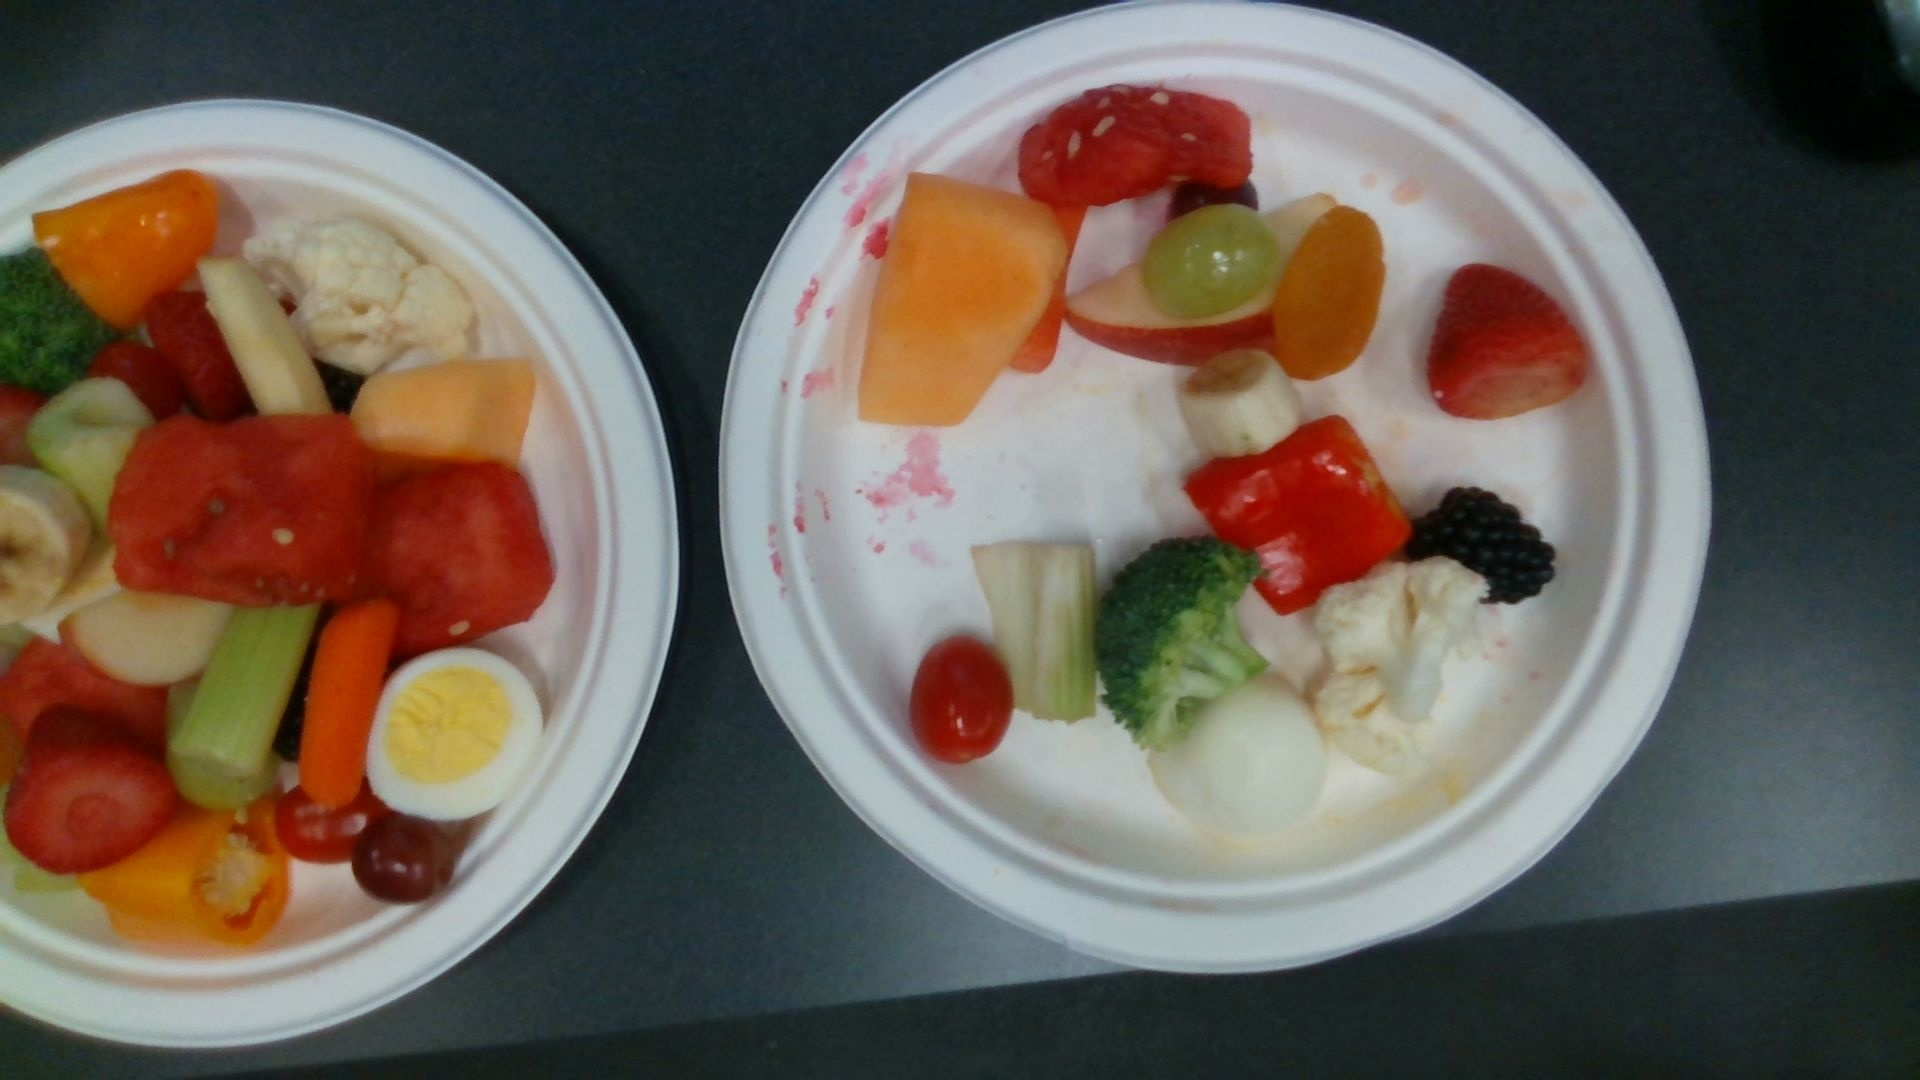apple: (1065, 195, 1342, 365), (199, 256, 328, 418), (59, 595, 232, 686)
apricot: (1275, 208, 1382, 378)
banana: (1, 465, 92, 620), (1182, 353, 1302, 458)
bell_pepper: (1185, 415, 1404, 615), (34, 170, 220, 328), (79, 816, 290, 948)
blackberry: (1410, 491, 1555, 601)
broccoli: (1095, 541, 1265, 733), (1, 247, 112, 386)
cantalope: (858, 175, 1065, 421), (349, 361, 534, 463)
carrot: (302, 603, 396, 804)
cauliflower: (243, 206, 480, 371), (1312, 558, 1487, 773)
celery: (169, 605, 316, 811), (971, 541, 1097, 721), (26, 380, 152, 531)
cherry_tomato: (914, 638, 1014, 761), (276, 785, 394, 865)
egg: (365, 646, 542, 816), (1185, 676, 1325, 825)
grape_green: (1149, 206, 1275, 318)
grape_purple: (352, 818, 452, 901)
melon: (115, 418, 369, 605), (353, 465, 550, 658), (1019, 86, 1251, 203)
strawberry: (5, 705, 175, 873), (1429, 265, 1589, 415)
